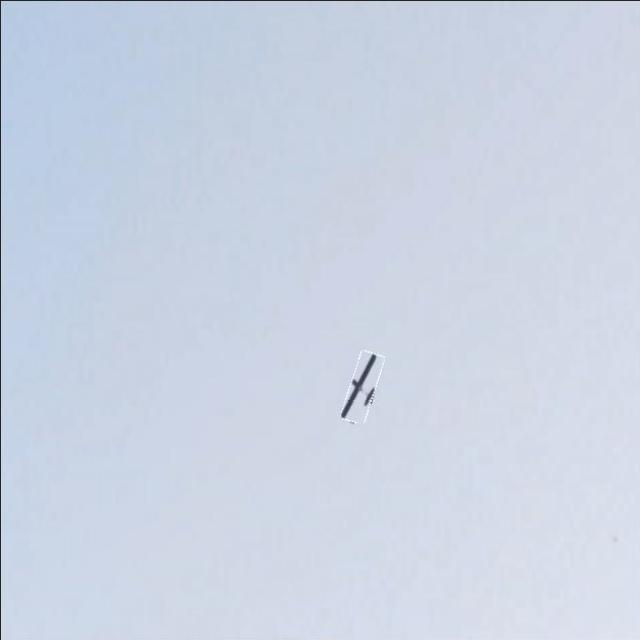plane: (340, 350, 386, 426)
